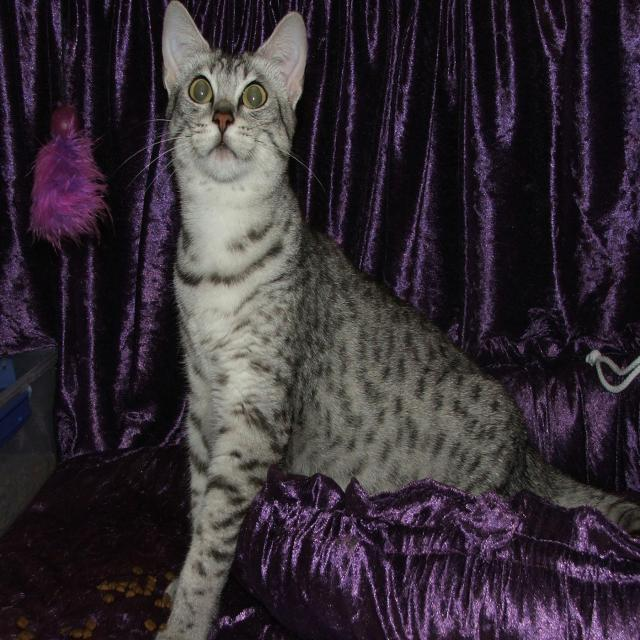Egyptian Mau: (147, 0, 640, 640)
